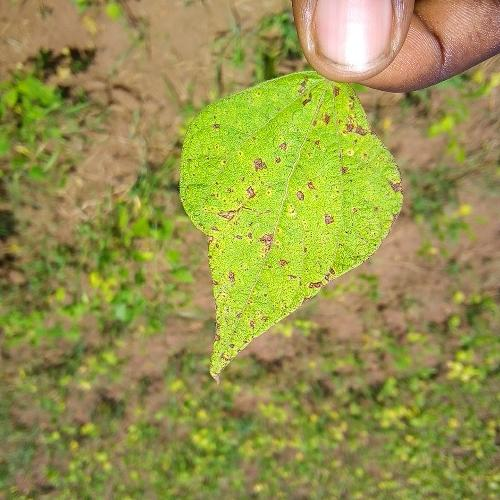hawar: (224, 137, 343, 292), (276, 62, 386, 168), (204, 177, 281, 260)
